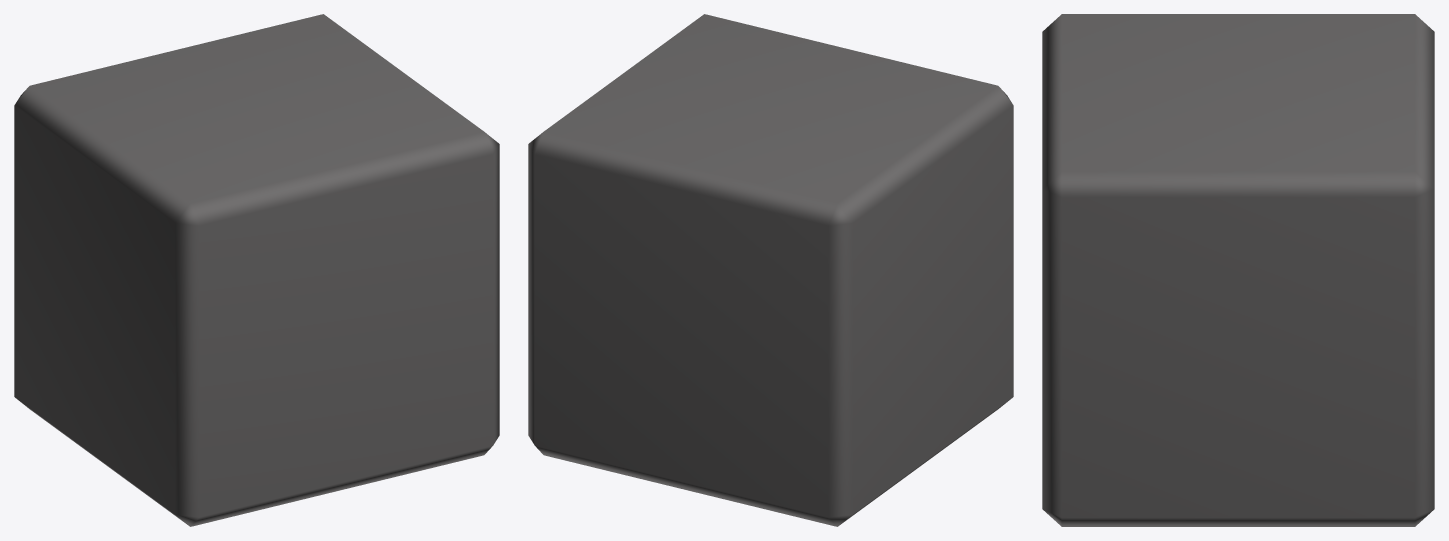
The model's file is Isl_17_Rock_2.fbx.
3 views of the same model, side by side, from view 1: azimuth 30°, elevation 25°; view 2: azimuth 150°, elevation 25°; view 3: azimuth 270°, elevation 25° (orthographic). The views are drawn at different scales.
Parts seen in each view (by area): view 1: Isl_17_Rock_2; view 2: Isl_17_Rock_2; view 3: Isl_17_Rock_2.
Boxes of the visible parts, x1,y1,x2,y2 form: Isl_17_Rock_2: (14, 14, 499, 526); Isl_17_Rock_2: (528, 14, 1013, 526); Isl_17_Rock_2: (1042, 14, 1434, 526).
Bounding box in the file's own units: 75.26 × 71.68 × 71.68.
Materials: 1 (1 with a texture image).
